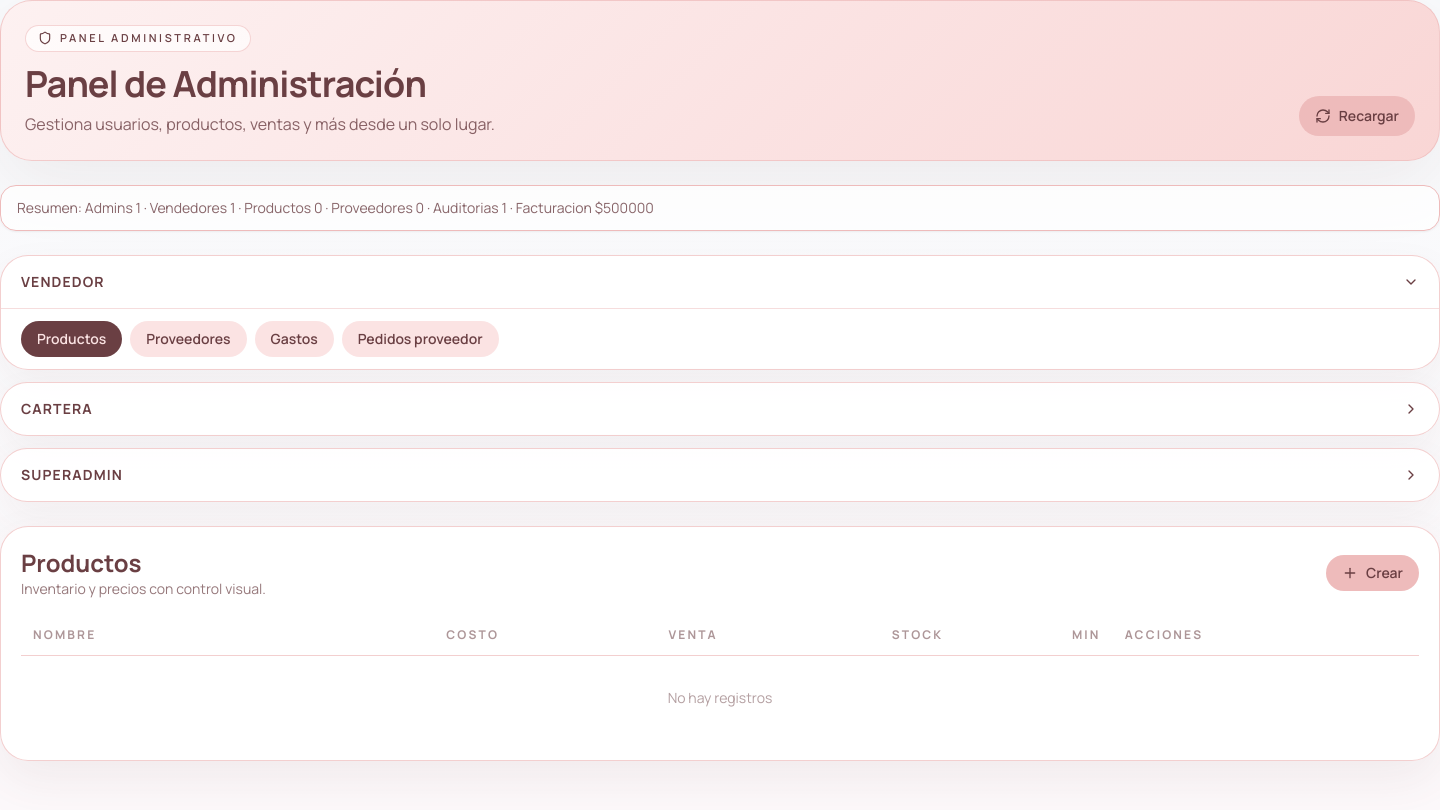
Admin page › refreshes data on Recargar click
Click the button "Recargar": (1357, 116) [1299,96,1415,136]
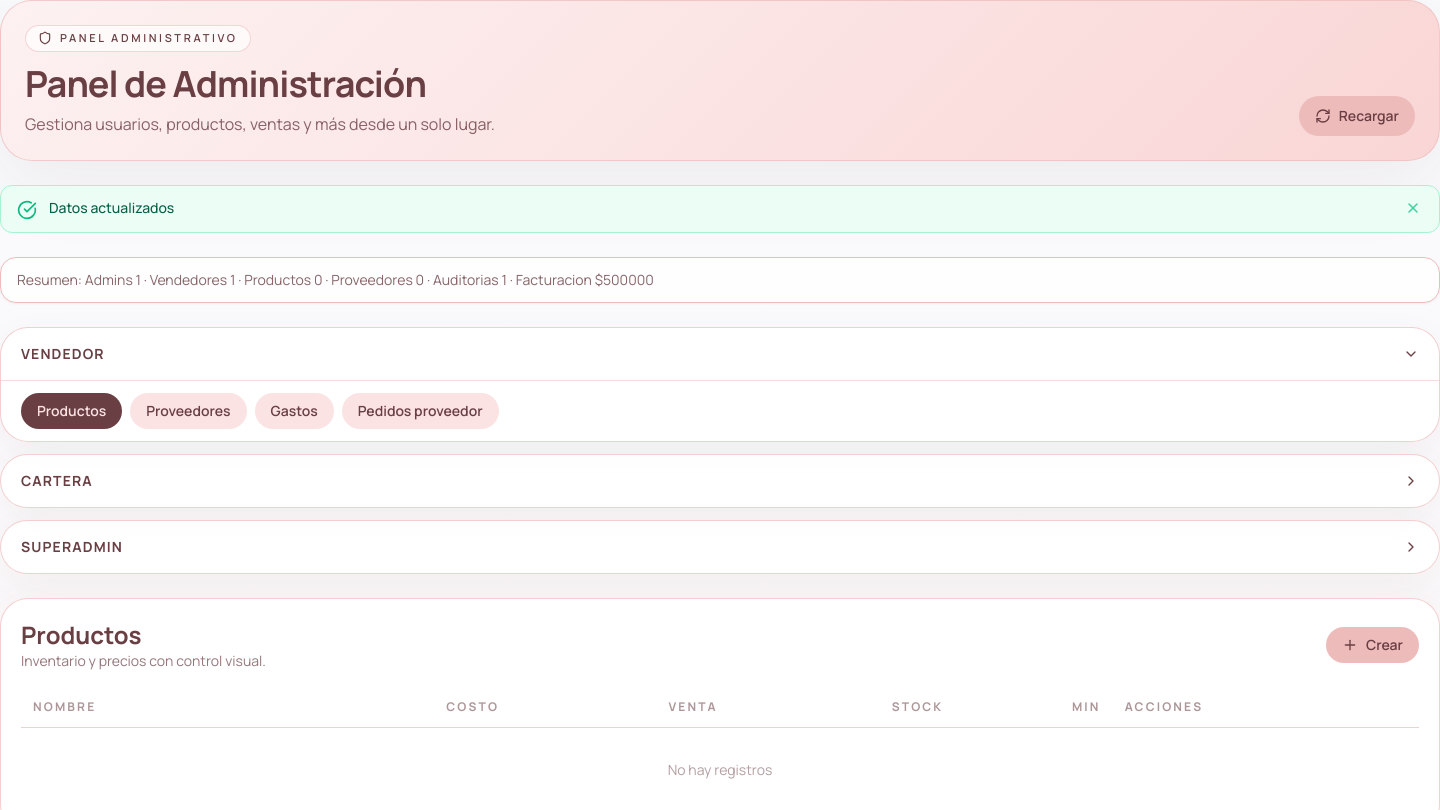
Check: the text "Datos actualizados" is shown, box [49,198,174,216]
